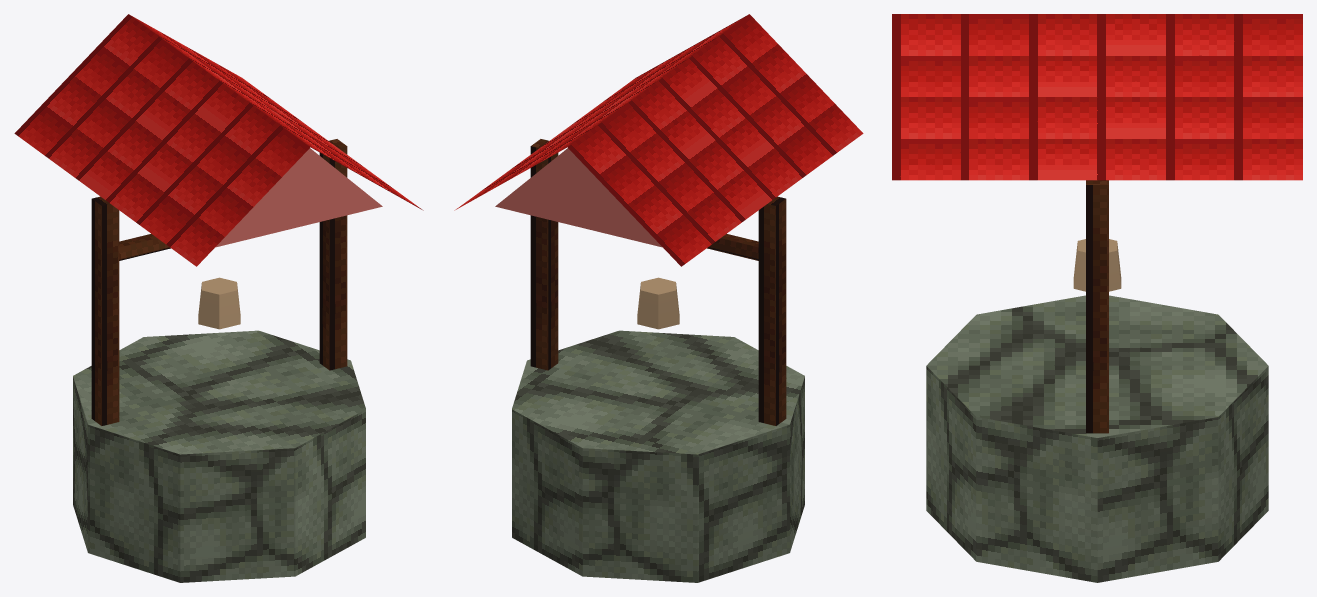
Rendered from well.glb.
The picture shows the model from 3 angles, left to right: view 1: azimuth 30°, elevation 25°; view 2: azimuth 150°, elevation 25°; view 3: azimuth 270°, elevation 25°; orthographic projection. The views are drawn at different scales.
Visible parts, largest first — view 1: well; view 2: well; view 3: well.
Part boxes in pixels (x1=…): well: x1=14, y1=14, x2=423, y2=582; well: x1=454, y1=14, x2=863, y2=582; well: x1=892, y1=14, x2=1302, y2=582.
Bounding box in the file's own units: 1.5 × 2.4 × 1.8.
Materials: 4 (3 with a texture image).
